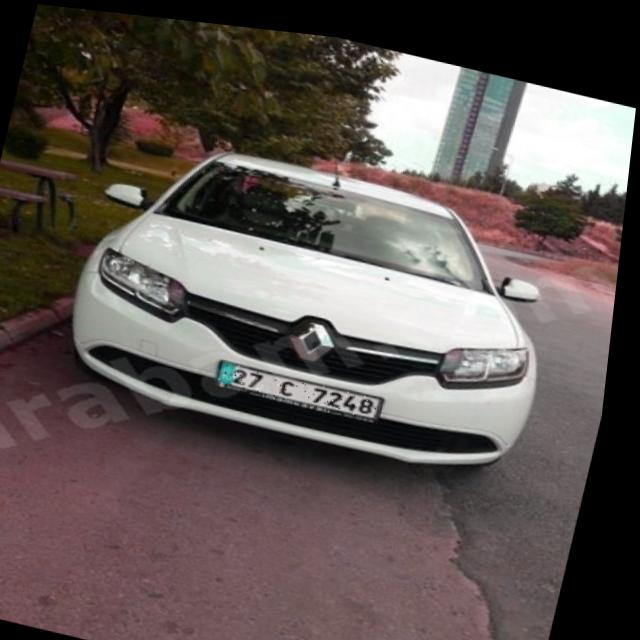license_plate: (223, 354, 392, 410)
